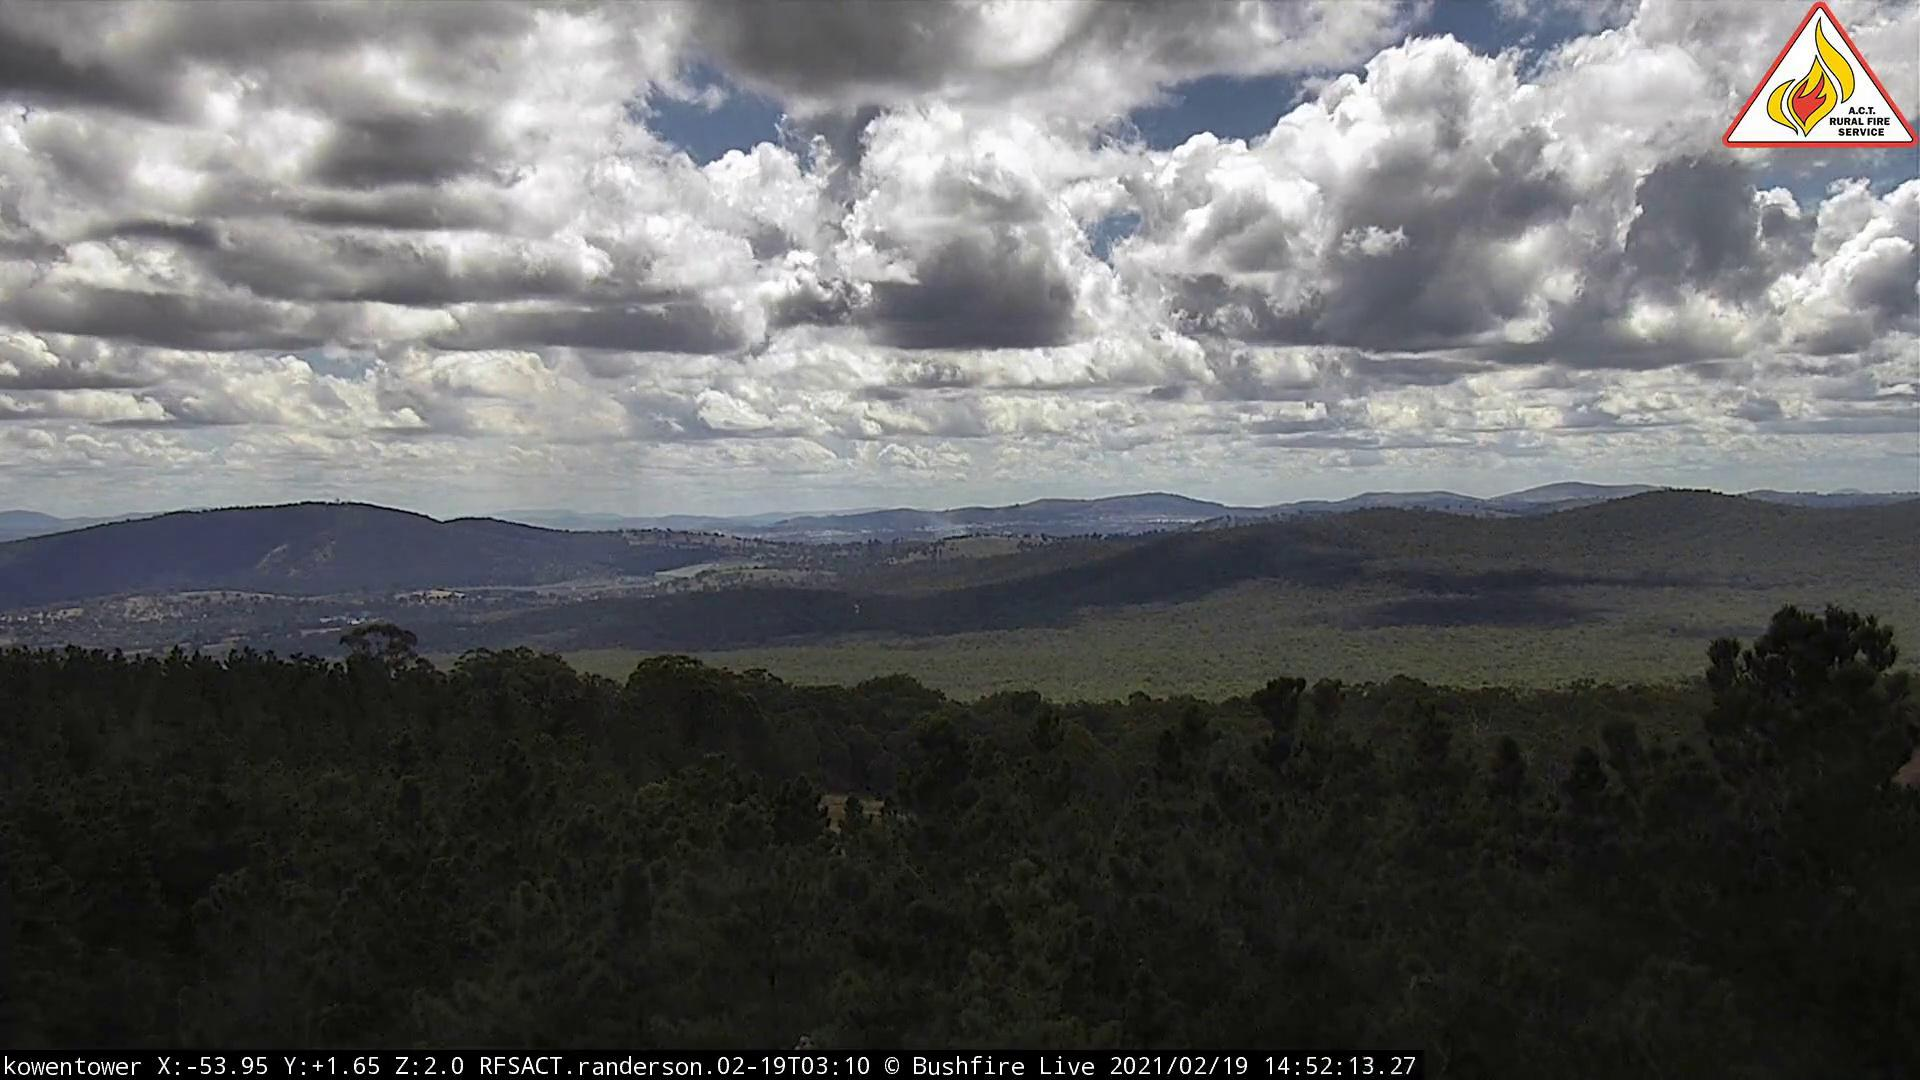Smoke: (524, 436, 977, 545)
